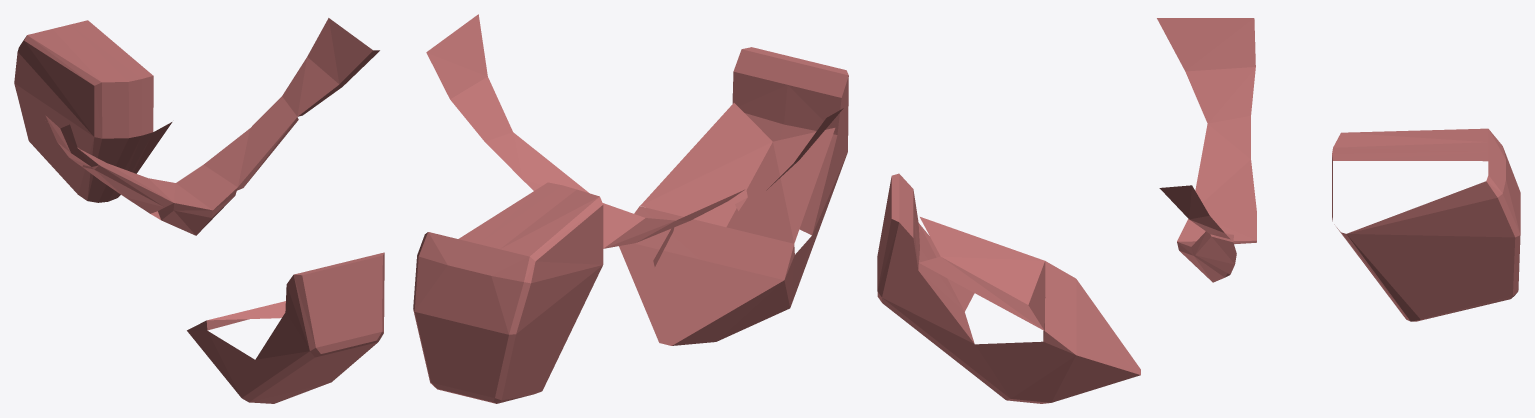
The model's file is ink__rx78_Null_017_link__rx78_Null_016_link__rx78_Null_015_link__rx78_Null_014_link__rx78_object_011-lib.dae_3__ac91573c.glb.
The picture shows the model from 3 angles, left to right: view 1: azimuth 30°, elevation 25°; view 2: azimuth 150°, elevation 25°; view 3: azimuth 270°, elevation 25°; orthographic projection. The views are drawn at different scales.
Parts seen in each view (by area): view 1: world; view 2: world; view 3: world.
Part boxes in pixels (x1,y1,x2,y2): world: [14, 18, 384, 403]; world: [413, 14, 848, 403]; world: [877, 18, 1520, 403].
Bounding box in the file's own units: 1 × 0.8316 × 1.59.
